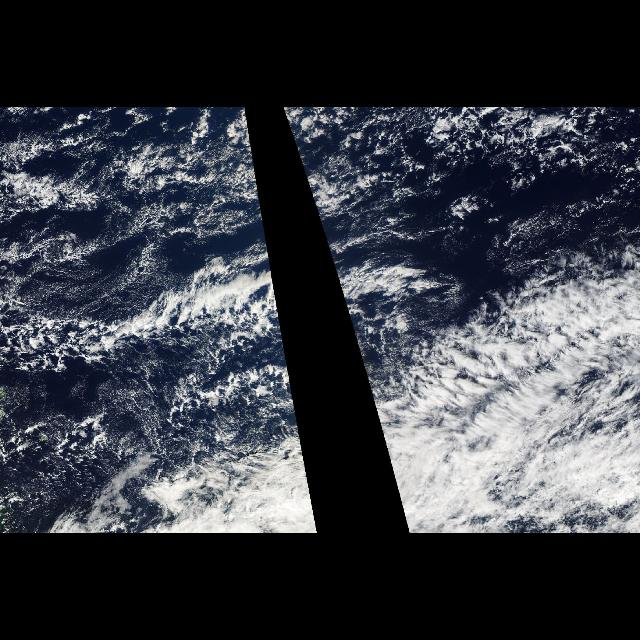Fish: (325, 236, 635, 442), (3, 236, 294, 407)
Gravel: (2, 318, 290, 439), (4, 124, 266, 218), (296, 114, 612, 188)
Sugar: (4, 119, 276, 315)
